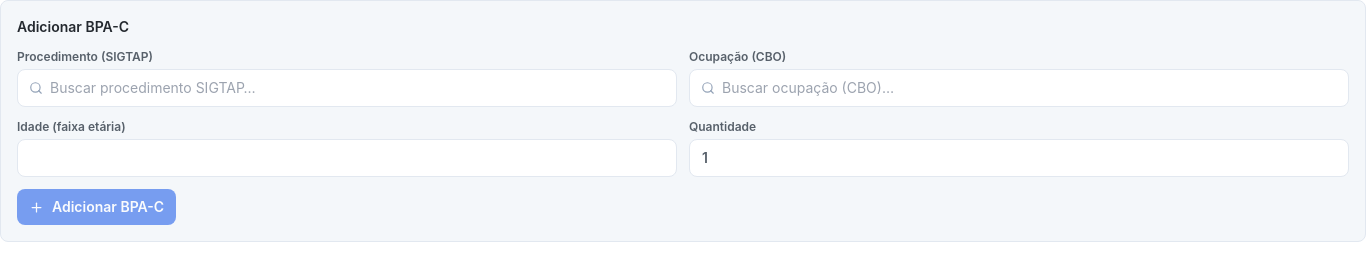
Test: BpaConsolidadoForm › keeps the submit disabled until sigtap, cbo and idade are set
Check: the button "Adicionar BPA-C" is disabled, box 17,189 -> 176,225
Focus the dropdown labelled "Buscar procedimento SIGTAP…" at coordinates (347, 88), box 17,69 -> 677,107
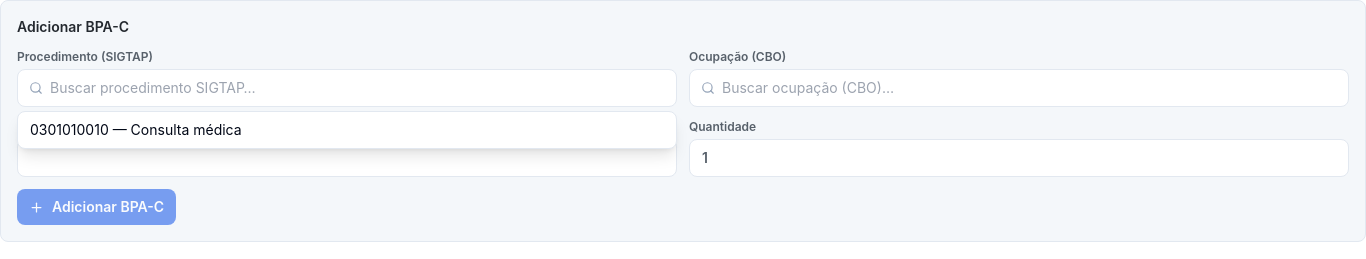
Click the option "0301010010 — Consulta médica" at coordinates (136, 130), box 18,112 -> 676,148
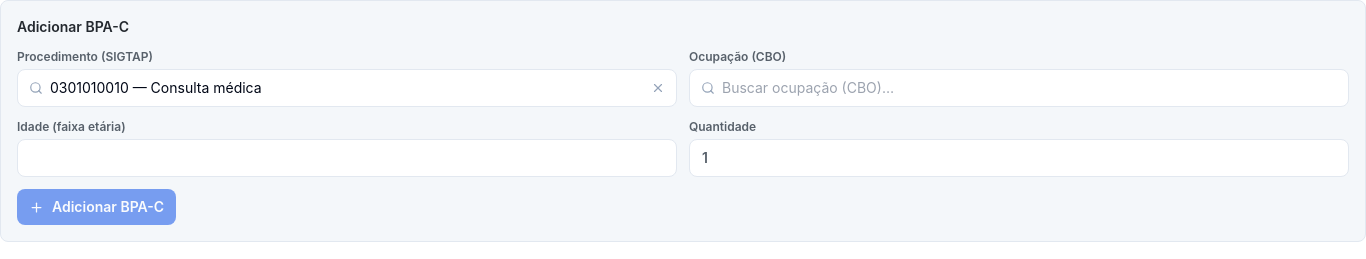
Focus the dropdown named "Ocupação CBO" at coordinates (1019, 88), box 689,69 -> 1349,107
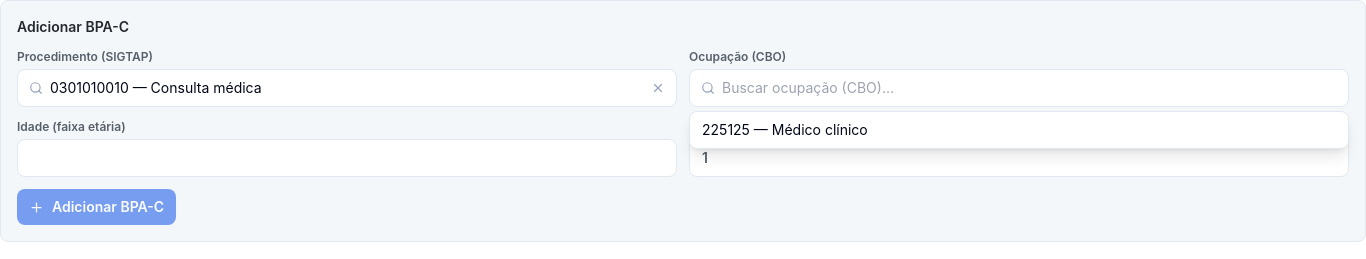
Click the option "225125 — Médico clínico" at coordinates (785, 130), box 690,112 -> 1348,148
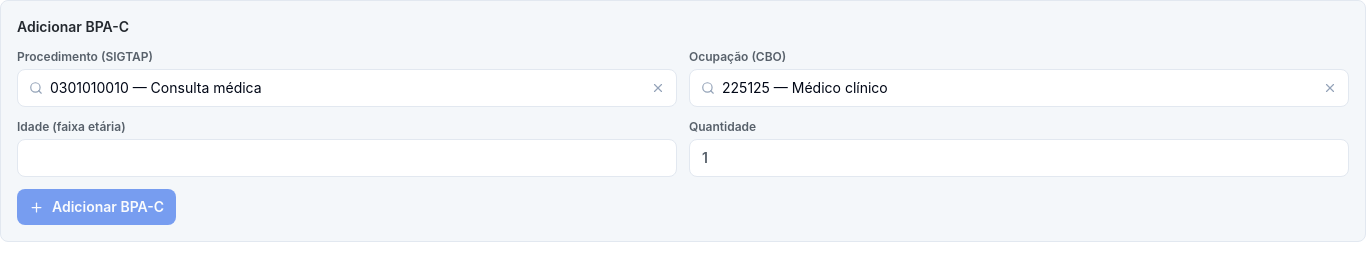
Check: the button "Adicionar BPA-C" is disabled, box 17,189 -> 176,225
Type "30" into the number field labelled "Idade (faixa etária)" at coordinates (347, 158), box 17,139 -> 677,177
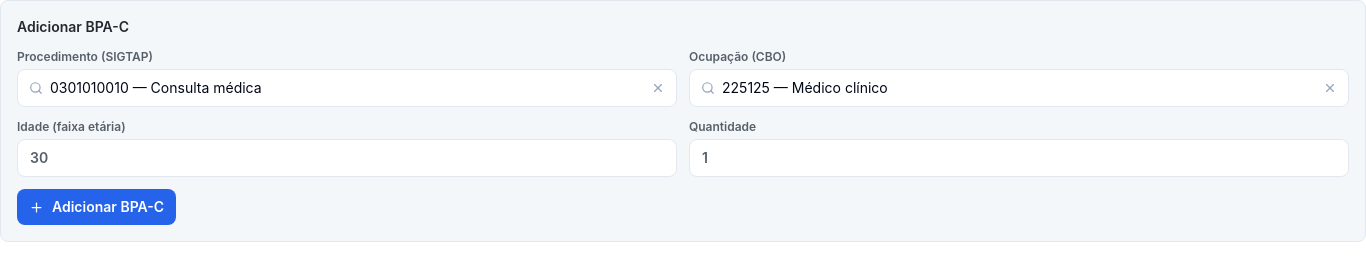
Check: the button "Adicionar BPA-C" is enabled, box 17,189 -> 176,225
